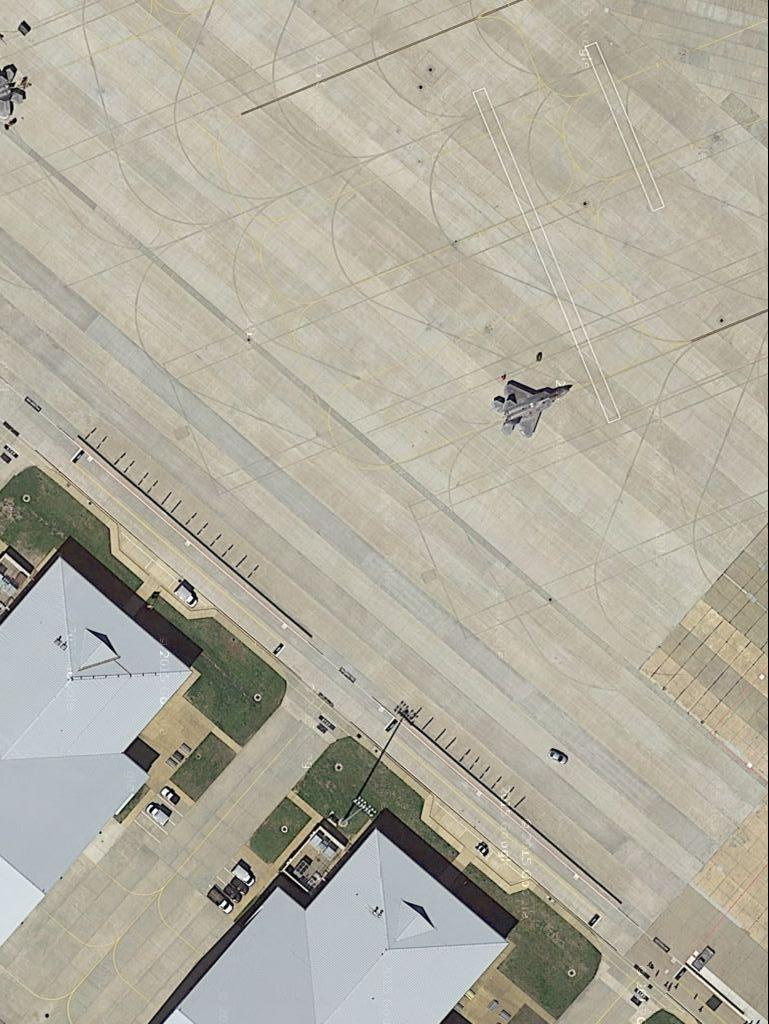F-22: (490, 377, 580, 441)
